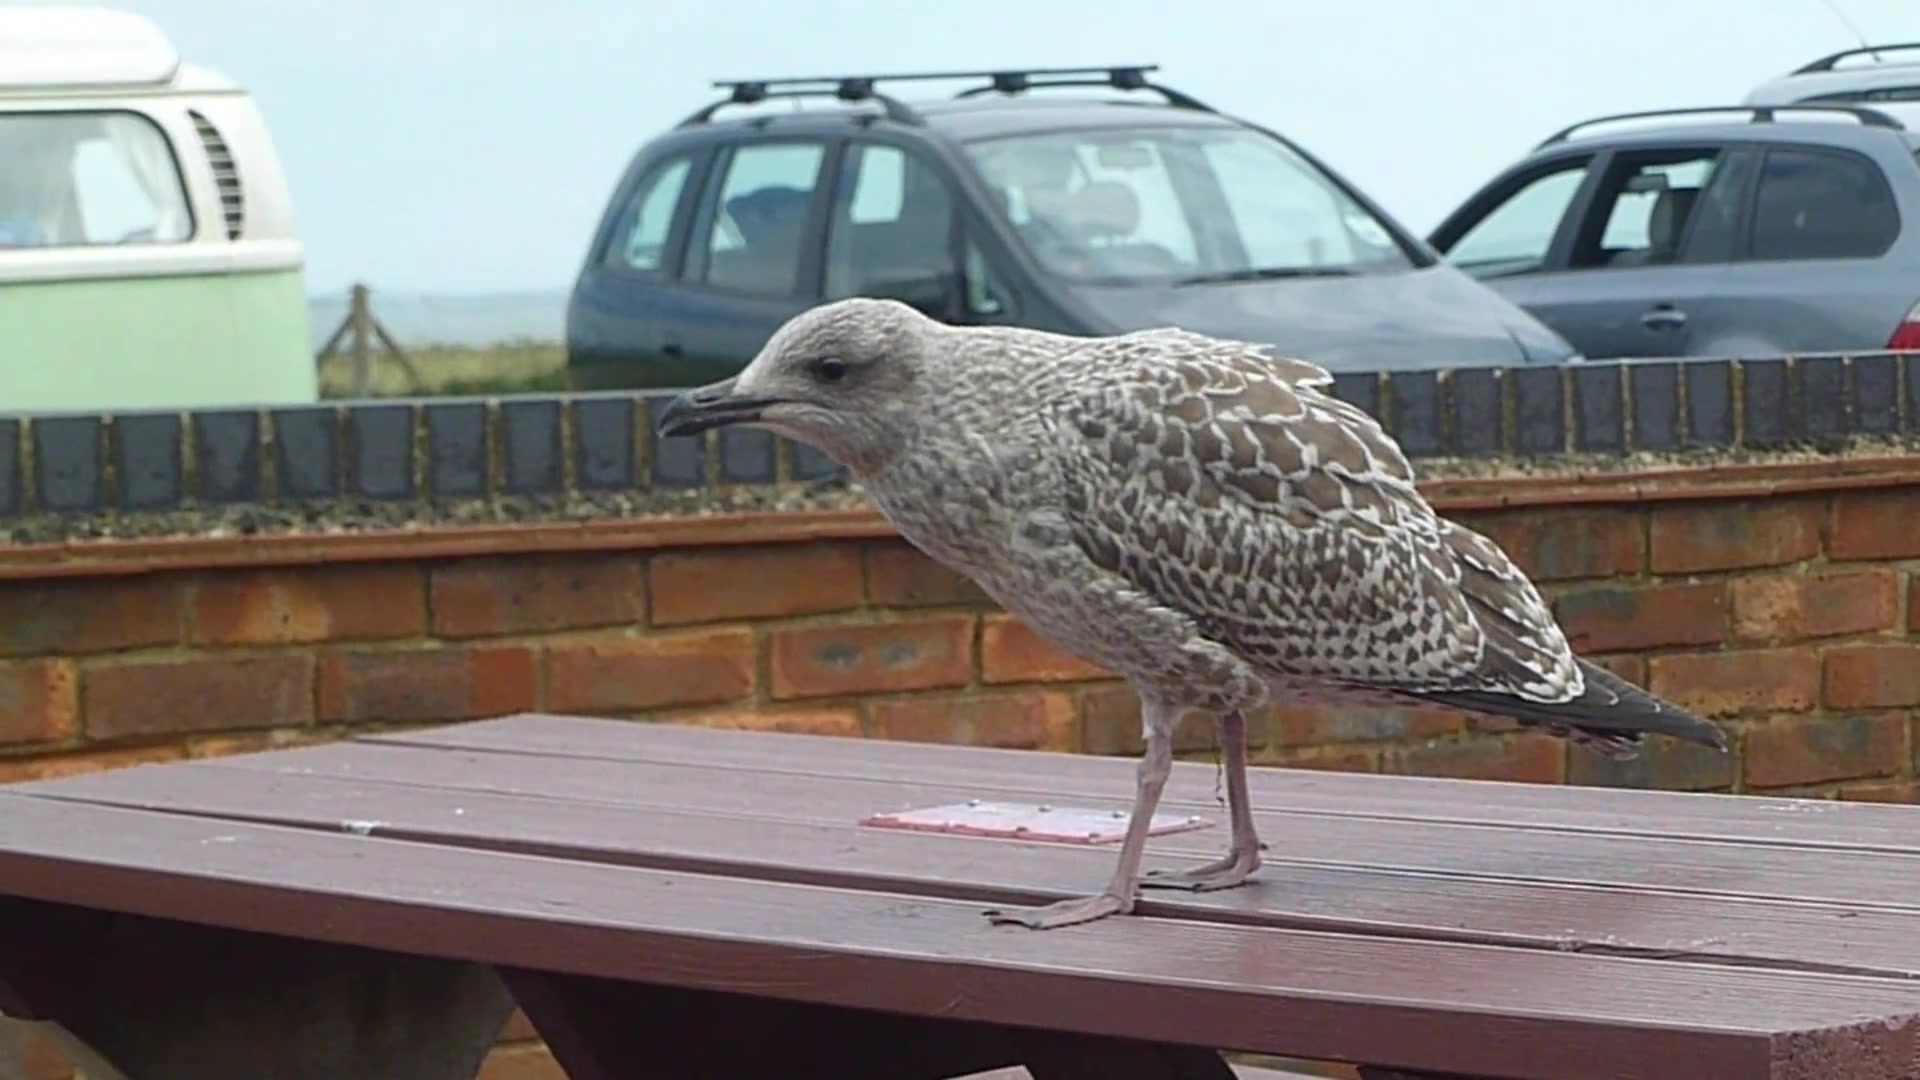bird: (654, 298, 1734, 934)
